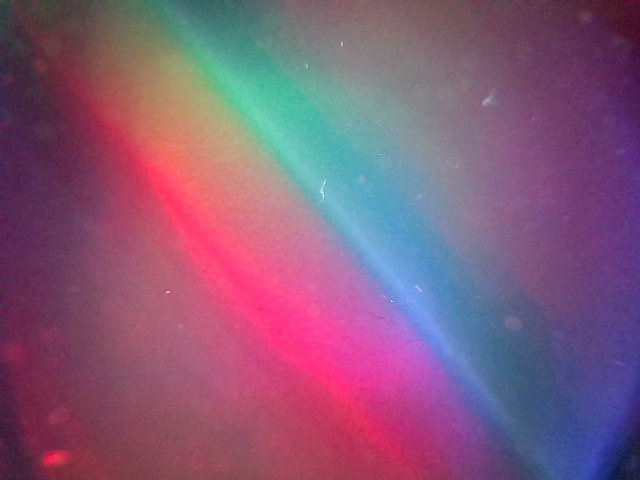contact: (12, 2, 558, 479)
